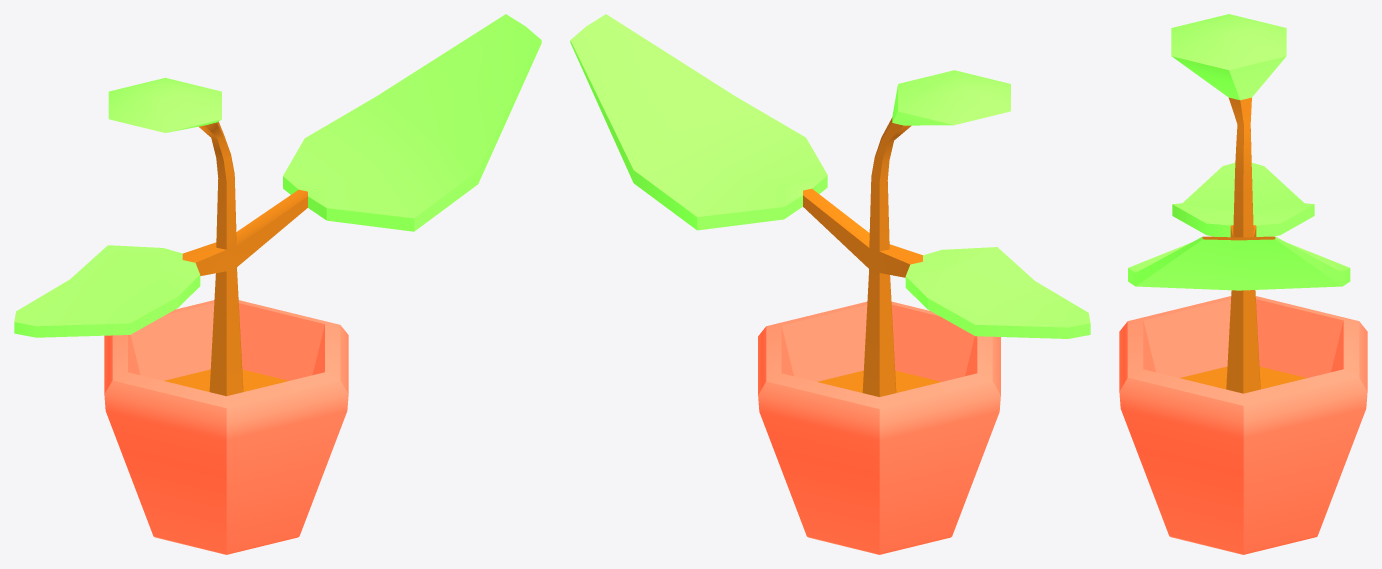
The model's file is Plant2.fbx.
3 renders of one model, left to right at view 1: azimuth 30°, elevation 25°; view 2: azimuth 150°, elevation 25°; view 3: azimuth 270°, elevation 25°, orthographic. The views are drawn at different scales.
Parts seen in each view (by area): view 1: Plant3; view 2: Plant3; view 3: Plant3.
Boxes of the visible parts, x1,y1,x2,y2 form: Plant3: (14,14,541,554); Plant3: (570,14,1090,554); Plant3: (1119,14,1367,554).
Size of the model in its own units: 308 by 260 by 128.
